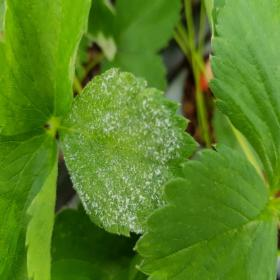Powdery Mildew Leaf: (56, 67, 201, 237)
